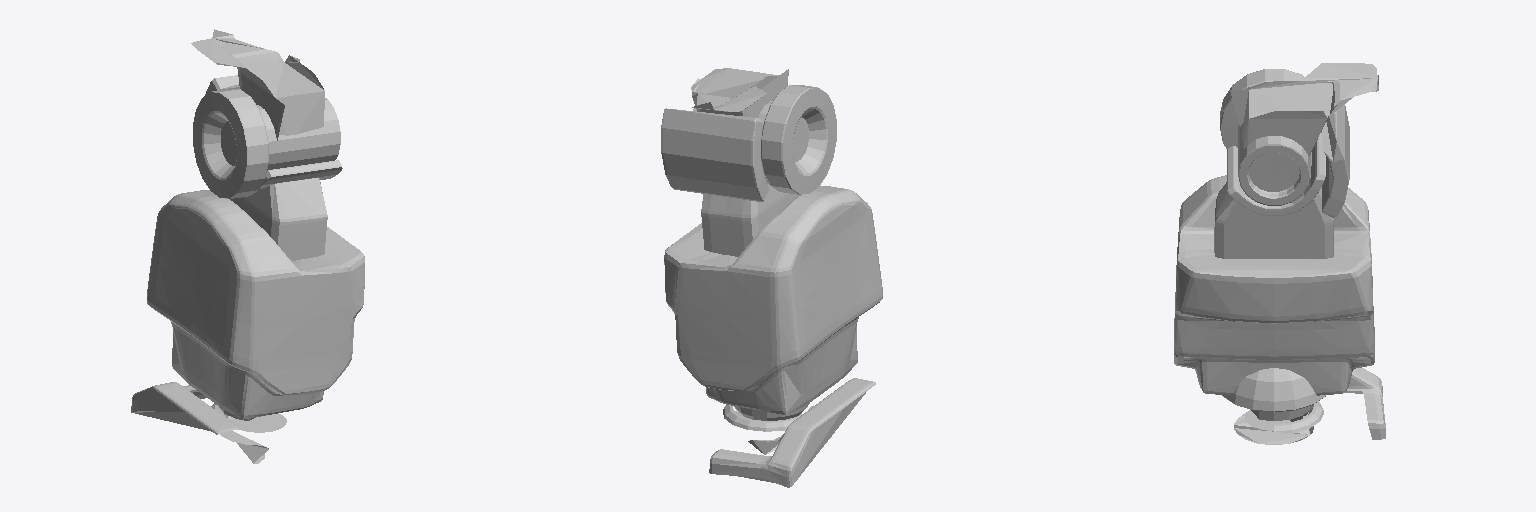
The model's file is Antebrazo_Izquierdo.obj.
3 renders of one model, left to right at view 1: azimuth 30°, elevation 25°; view 2: azimuth 150°, elevation 25°; view 3: azimuth 270°, elevation 25°, orthographic.
Parts seen in each view (by area): view 1: rig_test.002; view 2: rig_test.002; view 3: rig_test.002.
Boxes of the visible parts, box(x1,y1,x2,y2) form: rig_test.002: box(131, 29, 364, 463); rig_test.002: box(661, 68, 882, 487); rig_test.002: box(1174, 63, 1385, 444).
Bounding box in the file's own units: 21.13 × 50.59 × 25.9.